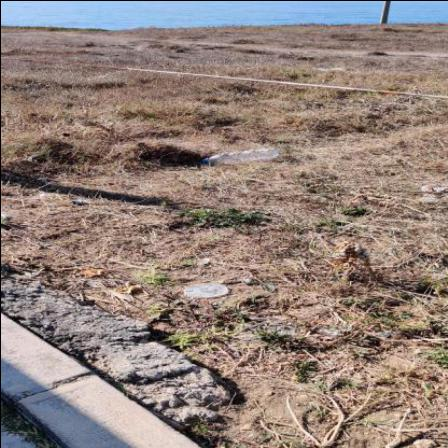Bottle: (203, 149, 279, 165)
Bottle cap: (203, 159, 208, 163)
Lid: (183, 283, 228, 299)
Plastic bag - wrapper: (27, 157, 33, 162)
Unlabeled litter: (70, 199, 88, 205), (315, 68, 341, 72)
